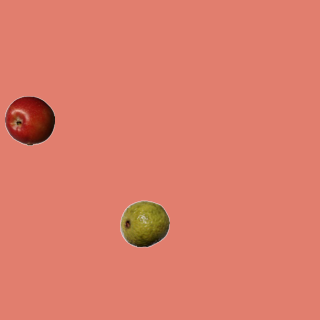Apple Braeburn: (4, 95, 54, 145)
Guava: (119, 198, 169, 248)
